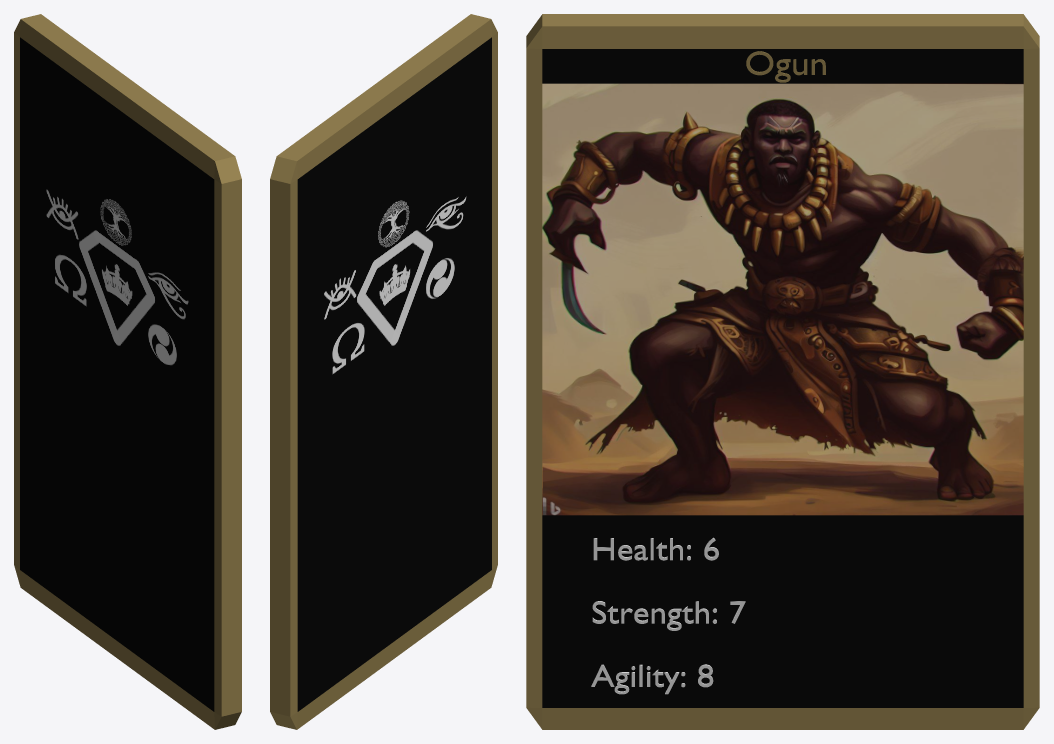
File: Ogun (1).fbx
3 renders of one model, left to right at view 1: azimuth 30°, elevation 25°; view 2: azimuth 150°, elevation 25°; view 3: azimuth 270°, elevation 25°, orthographic. The views are drawn at different scales.
Parts seen in each view (by area): view 1: Ogun; view 2: Ogun; view 3: Ogun.
Part boxes in pixels (box(x1,y1,x2,y2)): Ogun: box(14, 14, 241, 729); Ogun: box(270, 14, 497, 729); Ogun: box(526, 14, 1039, 729).
Bounding box in the file's own units: 20.45 × 482 × 319.
Materials: 5 (2 with a texture image).
